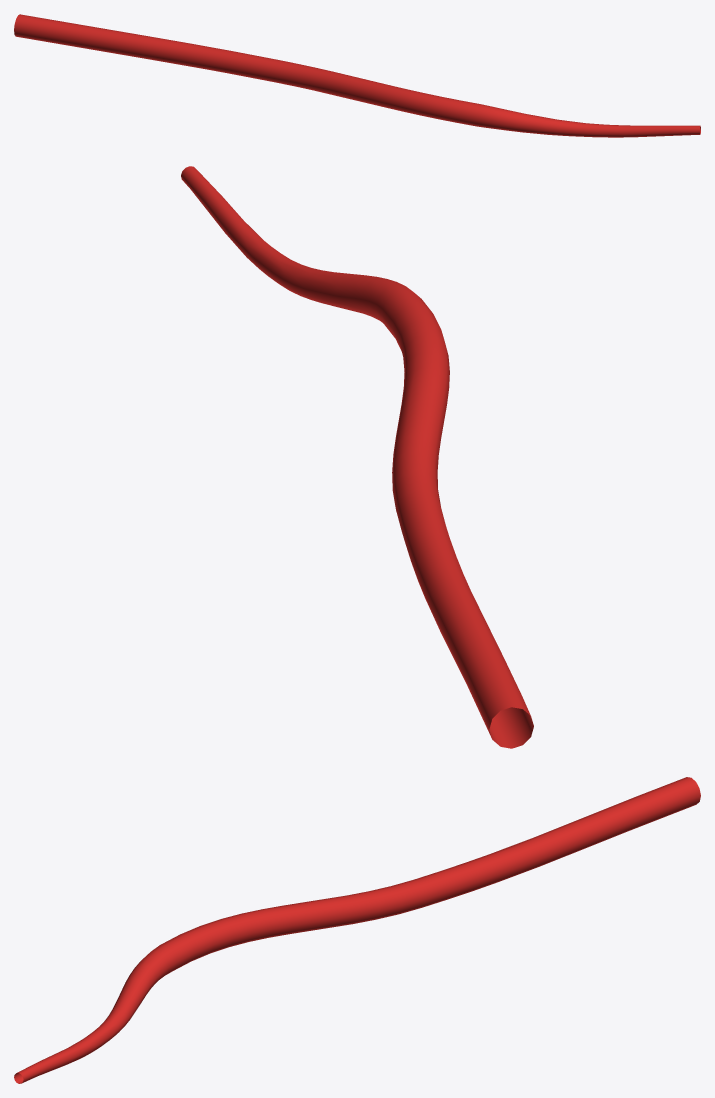
The model's file is circulatorio-superior-labial-artery-r.glb.
3 views of the same model, one above another, from view 1: azimuth 30°, elevation 25°; view 2: azimuth 150°, elevation 25°; view 3: azimuth 270°, elevation 25° (orthographic). The views are drawn at different scales.
Parts seen in each view (by area): view 1: Superior labial artery.r; view 2: Superior labial artery.r; view 3: Superior labial artery.r.
Boxes of the visible parts, <box> form: Superior labial artery.r: <box>14,14,700,137</box>; Superior labial artery.r: <box>181,166,533,748</box>; Superior labial artery.r: <box>14,777,700,1083</box>.
Size of the model in its own units: 0.0219 by 0.00186 by 0.0234.
